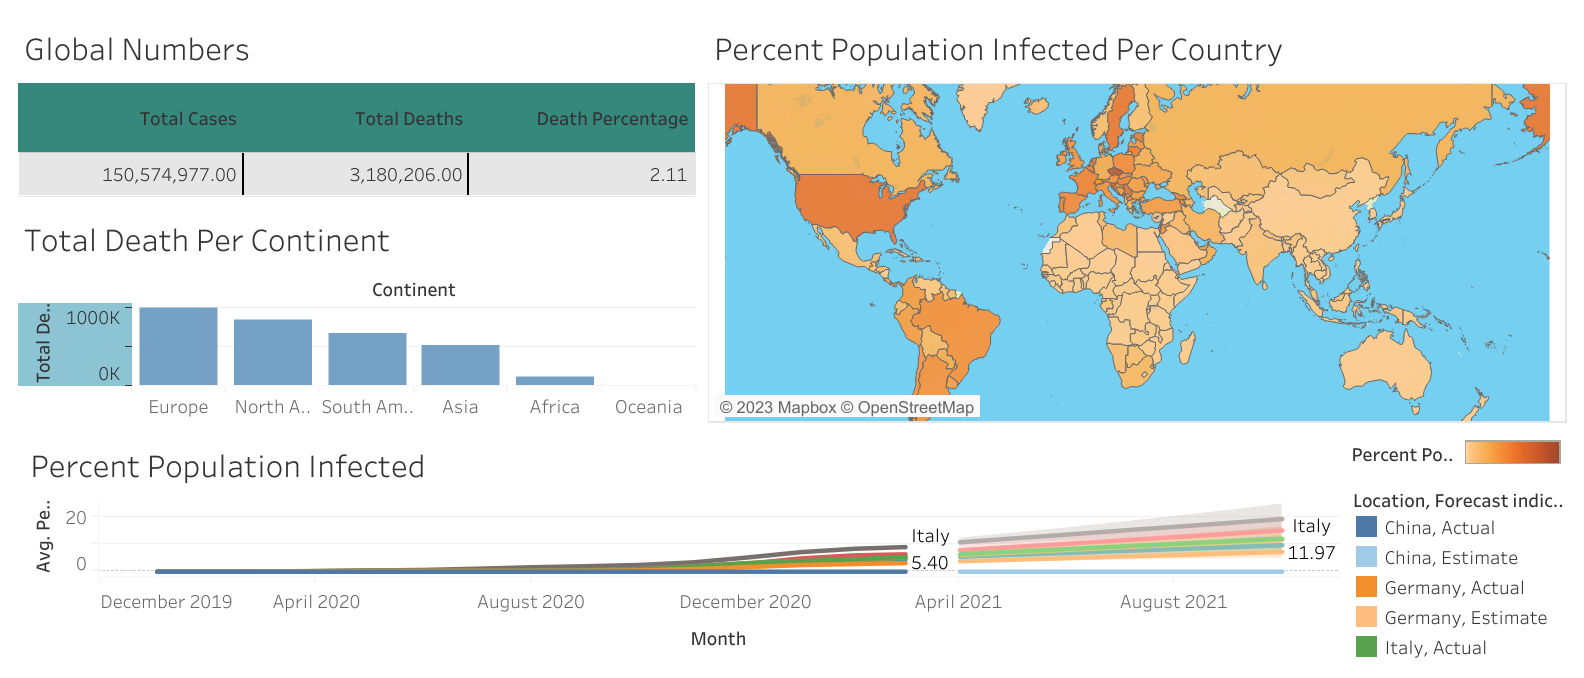

What the dashboard file says about the page in this screenshot:
{"tool":"tableau","page":{"name":"Dashboard 1","canvas":[1000,1000],"units":"permille","ordinal":0},"visuals":[{"type":"worksheet","title":"Sheet 1","mark":"Text","box":[4.8,9.3,437.5,284.6]},{"type":"worksheet","title":"Sheet 3","mark":"Automatic","box":[442.4,9.3,552.8,634.1]},{"type":"worksheet","title":"Sheet 2","mark":"Automatic","cols":["location"],"box":[4.8,293.9,437.5,349.6]},{"type":"worksheet","title":"Sheet 4","mark":"Automatic","rows":["PercentPopulationInfected"],"cols":["date"],"box":[4.8,643.4,846.1,347.3]},{"type":"legend","title":"Sheet 3","param":"[federated.06uhywo05ezh041f03kku169blfw].[sum:PercentPopulationInfected:qk]","box":[850.9,643.4,144.2,37.2]},{"type":"legend","title":"Sheet 4","param":"[federated.0u4h06b0kajxvq1f53dgt08ykiag].[none:Location:nk]\n[federated.0u4h06b0k","box":[850.9,680.6,144.2,310.1]}]}

Visuals, with their boxes on the dashboard's canvas, which has no fixed pixel size, in thousandths of its width and height (x1, y1, x2, y2). These are canvas units, not pixel positions in the 1584x678 screenshot, which may show the page scaled, cropped or inside an application window:
"Sheet 1" worksheet (Text marks): select_region(5, 9, 442, 294)
"Sheet 3" worksheet: select_region(442, 9, 995, 643)
"Sheet 2" worksheet: select_region(5, 294, 442, 644)
"Sheet 4" worksheet: select_region(5, 643, 851, 991)
"Sheet 3" legend: select_region(851, 643, 995, 681)
"Sheet 4" legend: select_region(851, 681, 995, 991)
